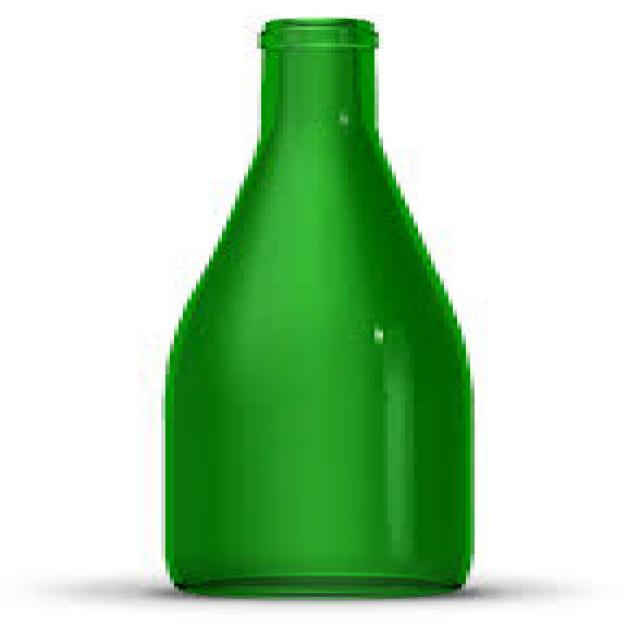Glass: (151, 14, 484, 609)
